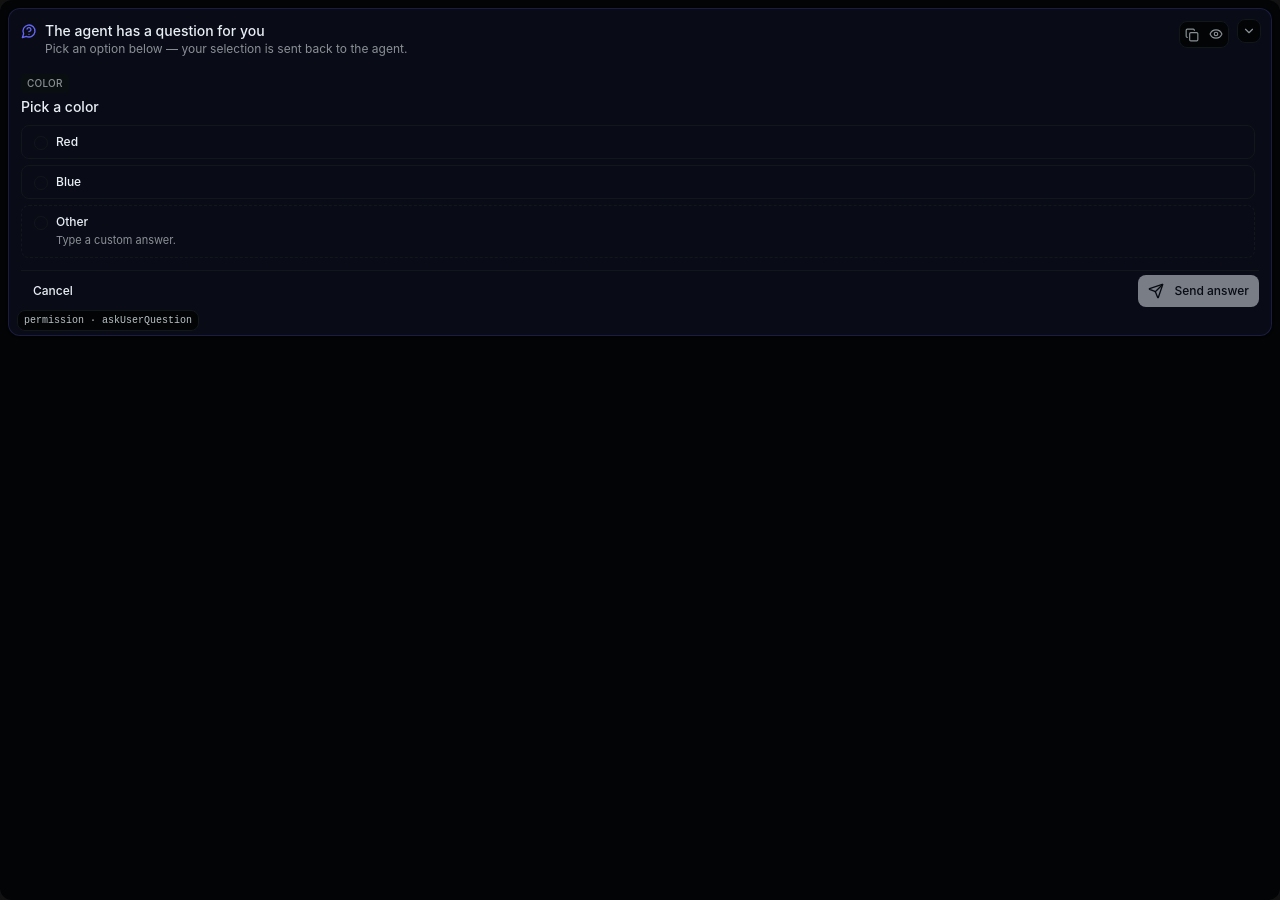
Test: AskUserQuestionCard › collapses the questions from the header button
Click the button named "Collapse question" at (1249, 31), box [1237,19,1261,43]
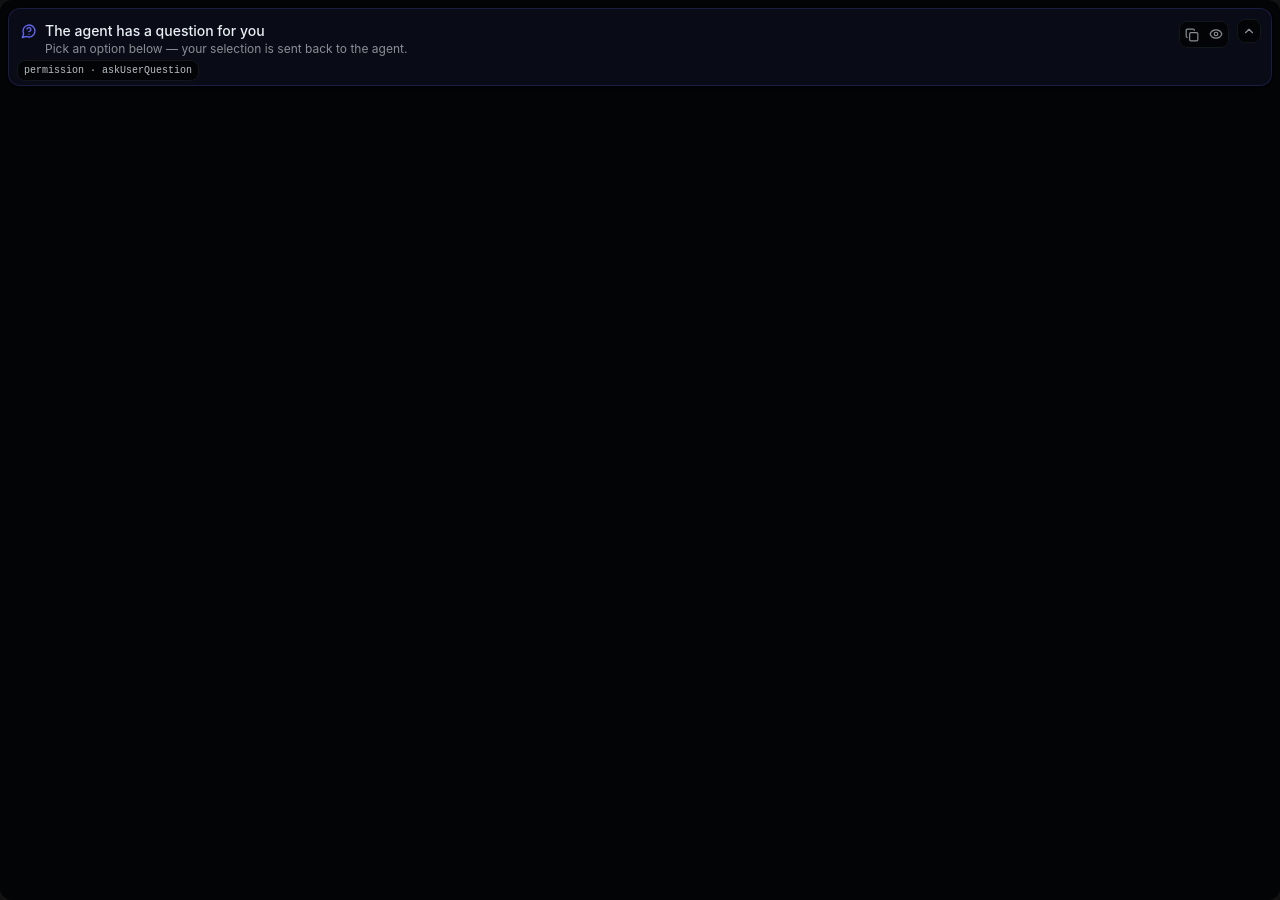
Result: the text "Pick a color" is gone
Result: the button named "Expand question" is shown at [1237,19,1261,43]
